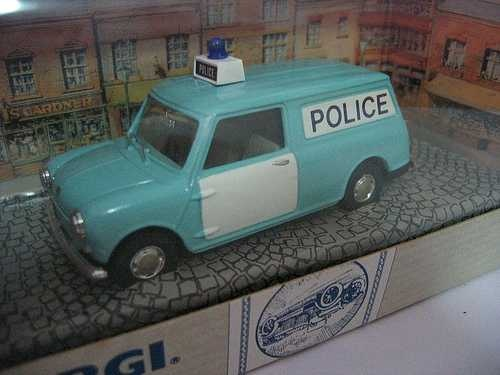Police Van: (28, 49, 426, 268)
